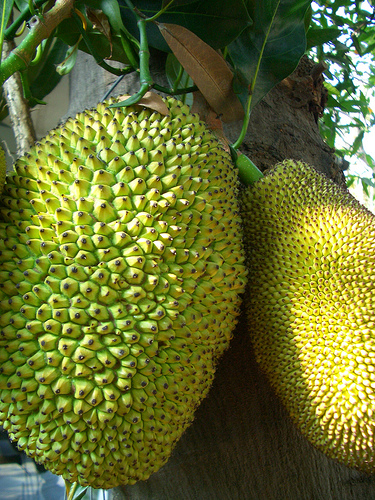jackfruit: (0, 86, 250, 490), (238, 155, 373, 475)
